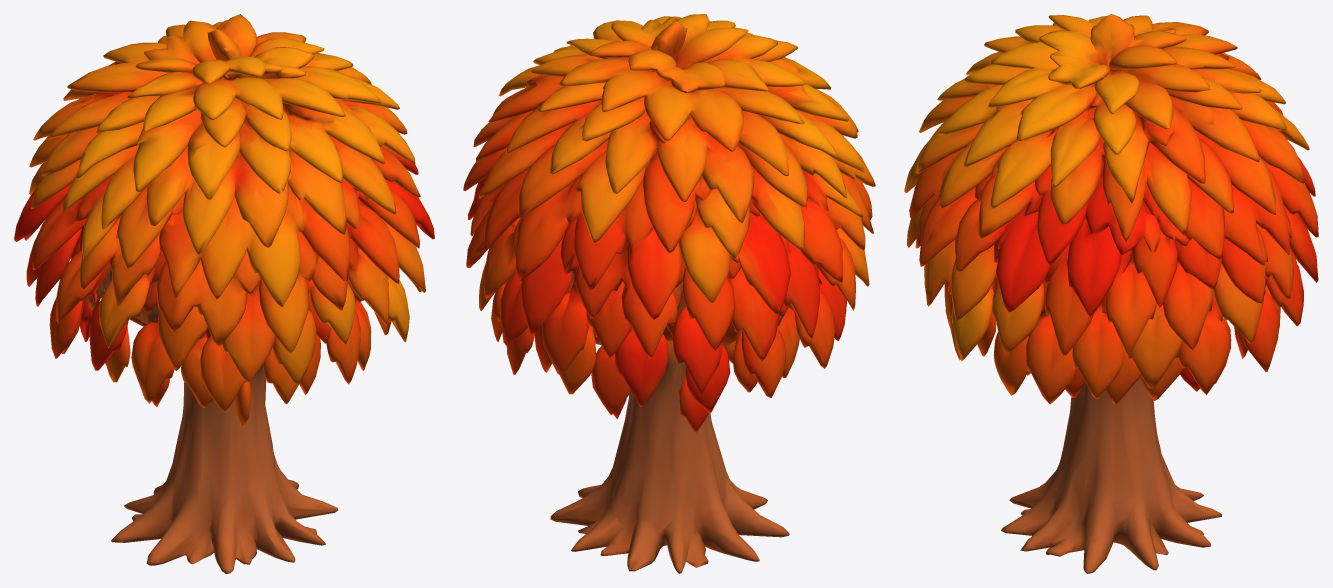
File: tree_autumn.glb
3 views of the same model, side by side, from view 1: azimuth 30°, elevation 25°; view 2: azimuth 150°, elevation 25°; view 3: azimuth 270°, elevation 25° (orthographic).
Parts seen in each view (by area): view 1: tripo_node_16fedd0f-b9ad-43a3-a88a-498c10222b4e; view 2: tripo_node_16fedd0f-b9ad-43a3-a88a-498c10222b4e; view 3: tripo_node_16fedd0f-b9ad-43a3-a88a-498c10222b4e.
Part boxes in pixels (left/top/right/bottom): tripo_node_16fedd0f-b9ad-43a3-a88a-498c10222b4e: left=14, top=14, right=434, bottom=573; tripo_node_16fedd0f-b9ad-43a3-a88a-498c10222b4e: left=463, top=14, right=875, bottom=573; tripo_node_16fedd0f-b9ad-43a3-a88a-498c10222b4e: left=904, top=14, right=1318, bottom=573.
Size of the model in its own units: 3.64 by 4.8 by 3.55.
Materials: 1 (1 with a texture image).
